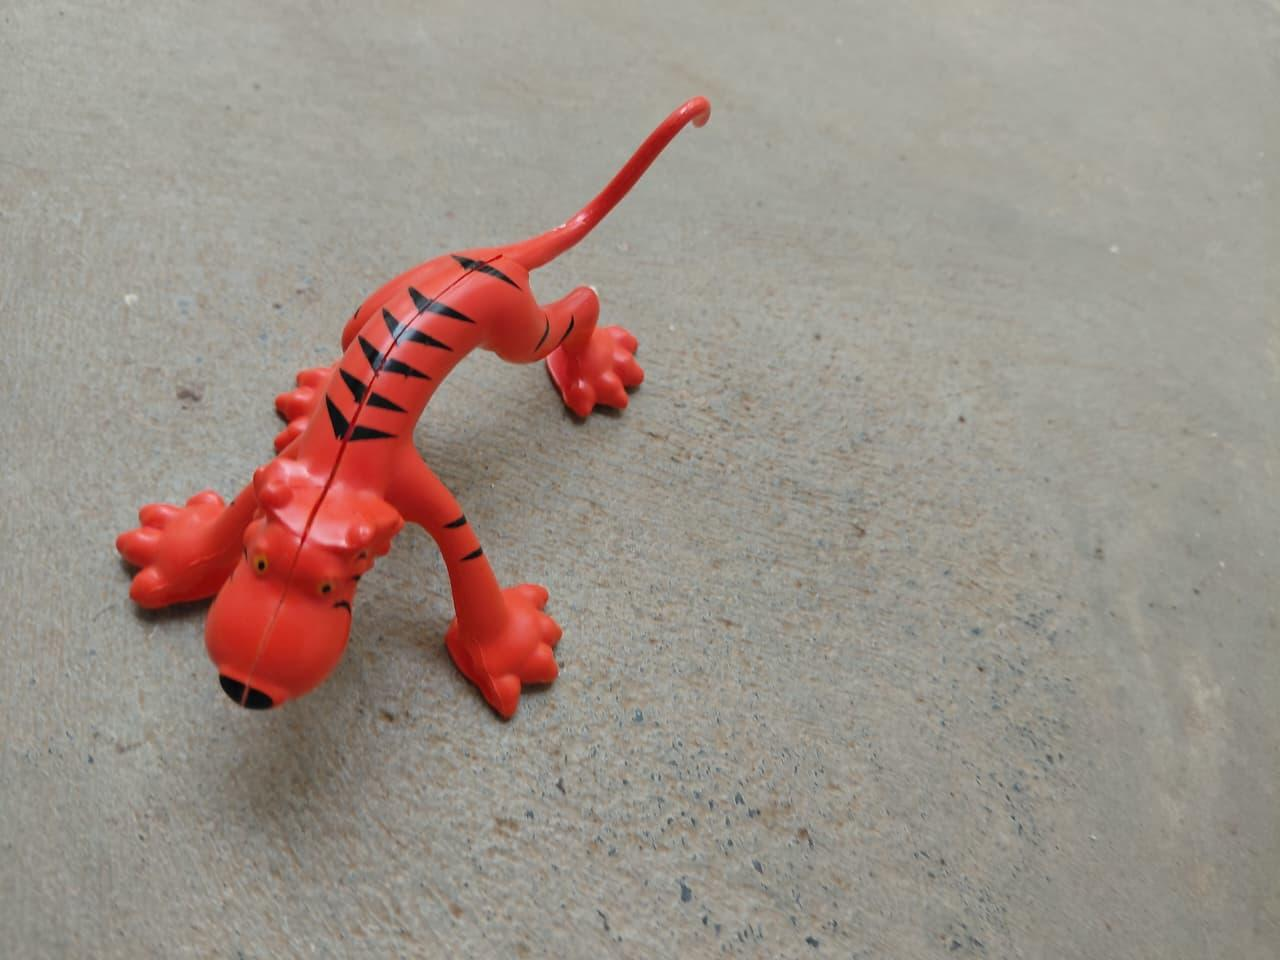tiger: (112, 85, 714, 729)
